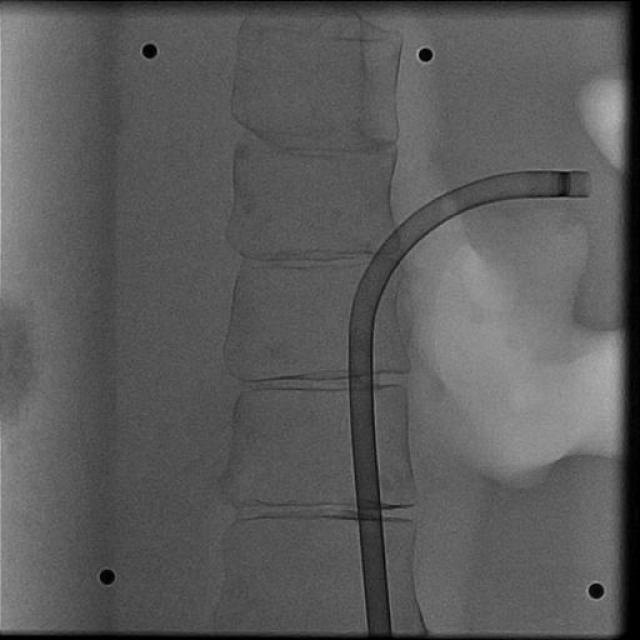bend: (349, 322, 373, 341)
entry: (366, 624, 395, 634)
marker: (558, 170, 570, 198)
tip: (585, 173, 593, 197)
